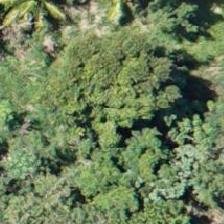coconut_tree: (177, 66, 223, 156)
